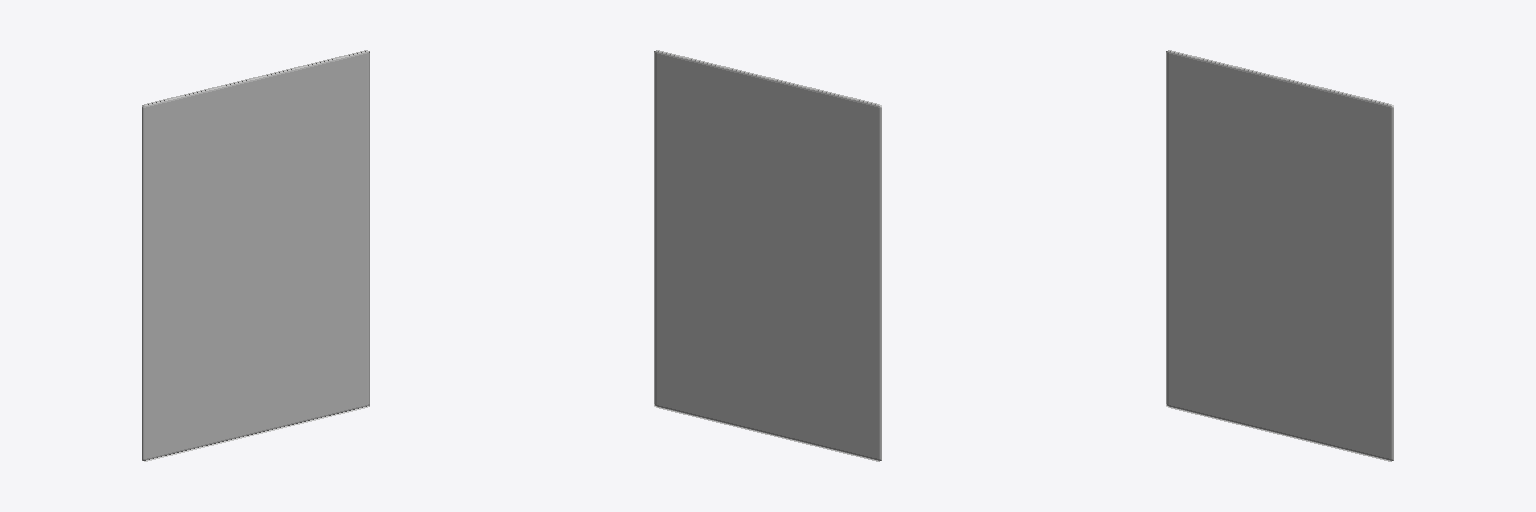
File: CardModel.obj
3 views of the same model, side by side, from view 1: azimuth 30°, elevation 25°; view 2: azimuth 150°, elevation 25°; view 3: azimuth 330°, elevation 25° (orthographic).
Visible parts, largest first — view 1: CardModel; view 2: CardModel; view 3: CardModel.
Boxes of the visible parts, x1=… form: CardModel: x1=142, y1=50, x2=369, y2=461; CardModel: x1=654, y1=50, x2=881, y2=461; CardModel: x1=1166, y1=50, x2=1393, y2=461.
Bounding box in the file's own units: 3.33 × 5 × 0.0336.